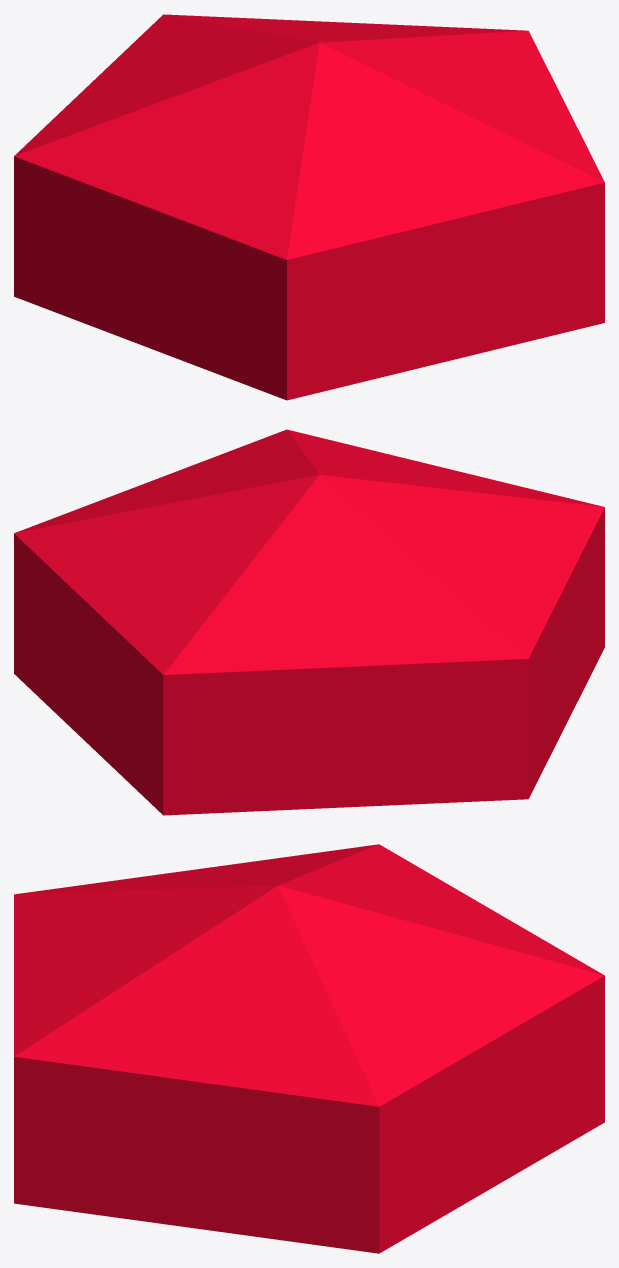
Rendered from Gema.fbx.
3 renders of one model, top to bottom at view 1: azimuth 30°, elevation 25°; view 2: azimuth 150°, elevation 25°; view 3: azimuth 270°, elevation 25°, orthographic. The views are drawn at different scales.
Visible parts, largest first — view 1: Cylinder; view 2: Cylinder; view 3: Cylinder.
Boxes of the visible parts, bbox=[...] form: Cylinder: bbox=[14, 14, 604, 400]; Cylinder: bbox=[14, 429, 604, 815]; Cylinder: bbox=[14, 844, 604, 1253].
Size of the model in its own units: 186 by 78.4 by 177.
